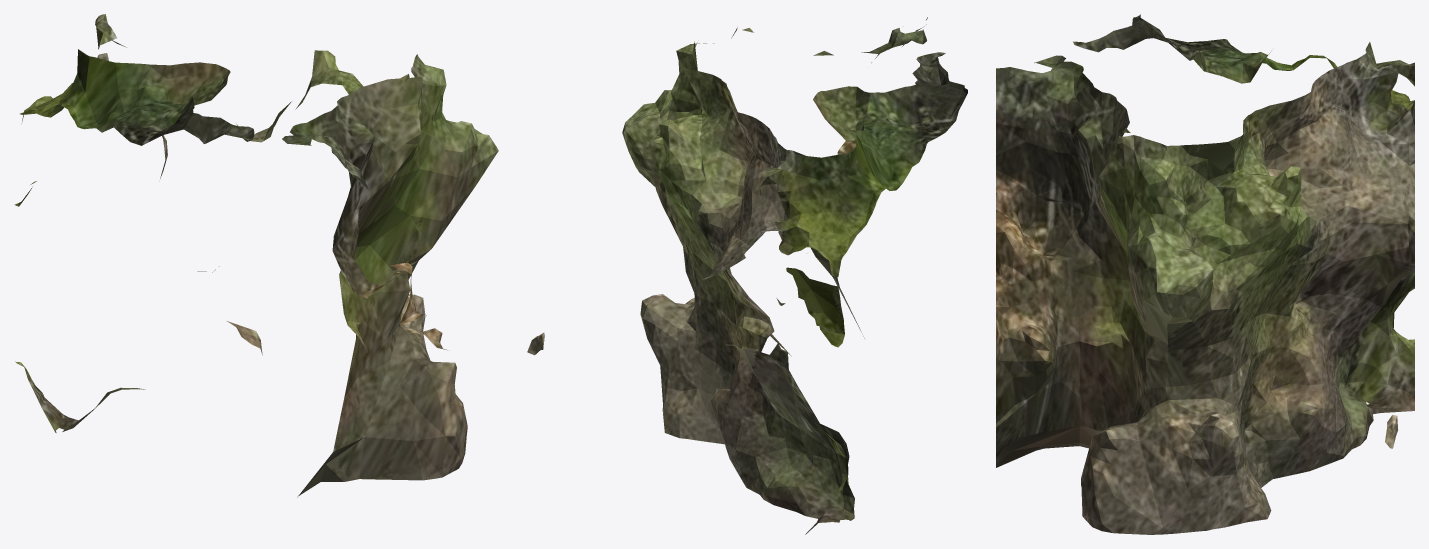
The picture shows the model from 3 angles, left to right: view 1: azimuth 30°, elevation 25°; view 2: azimuth 150°, elevation 25°; view 3: azimuth 270°, elevation 25°; orthographic projection. The views are drawn at different scales.
Size of the model in its own units: 5.65 by 5.9 by 5.9.
5 materials, 5 textured.
